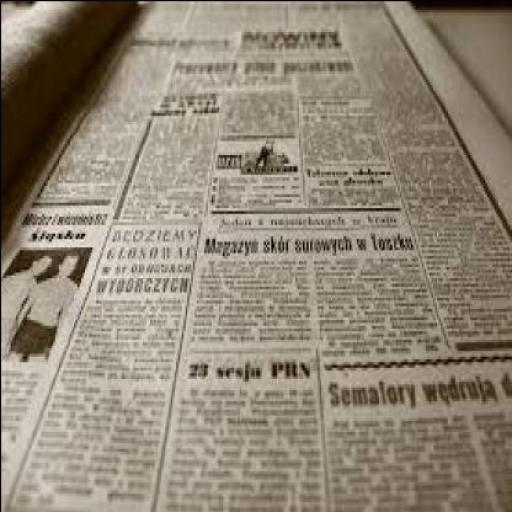paper: (1, 1, 511, 510)
